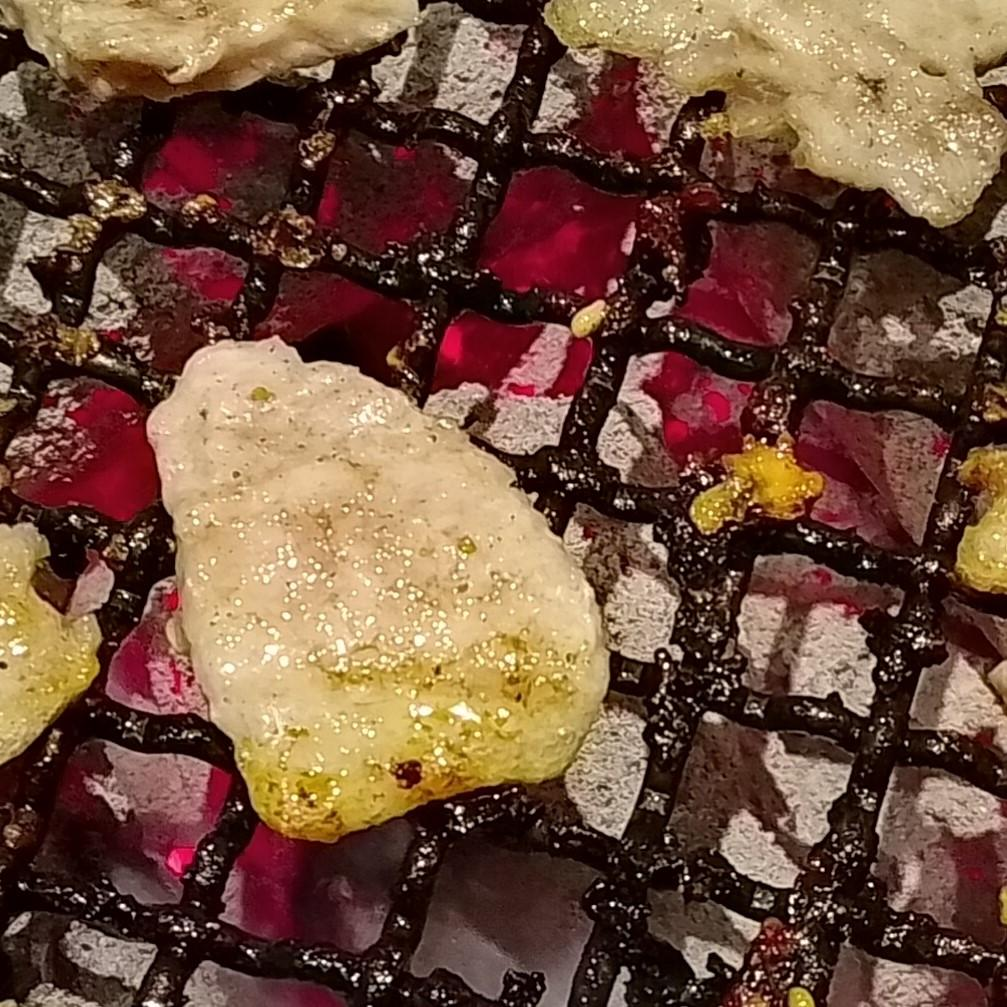Undercooked: (145, 339, 610, 848)
